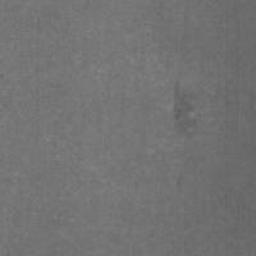Inclusion: (172, 74, 201, 138)
